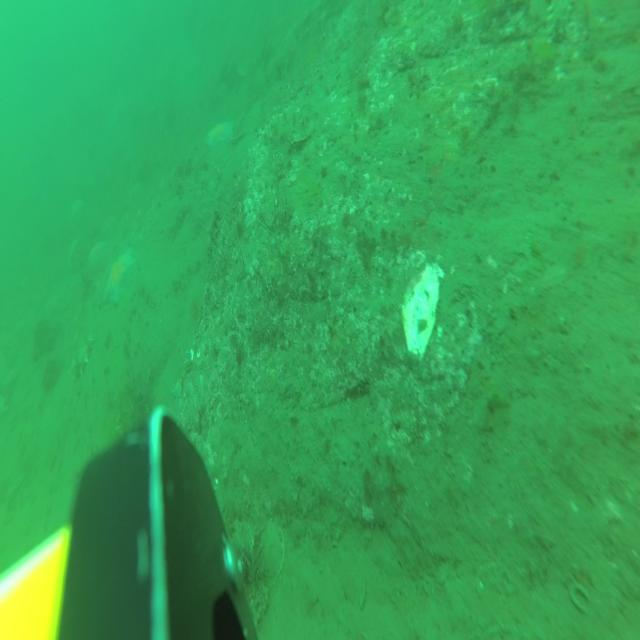holothurian: (71, 334, 95, 382)
starfish: (102, 247, 137, 306), (205, 118, 234, 149), (87, 240, 105, 266)
